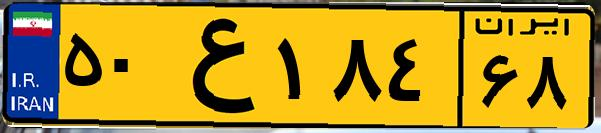0: (110, 28, 158, 98)
1: (270, 28, 330, 110)
4: (385, 28, 445, 110)
5: (57, 26, 110, 100)
6: (475, 38, 525, 113)
8: (330, 28, 385, 110), (525, 38, 570, 115)
ع: (158, 12, 270, 120)
